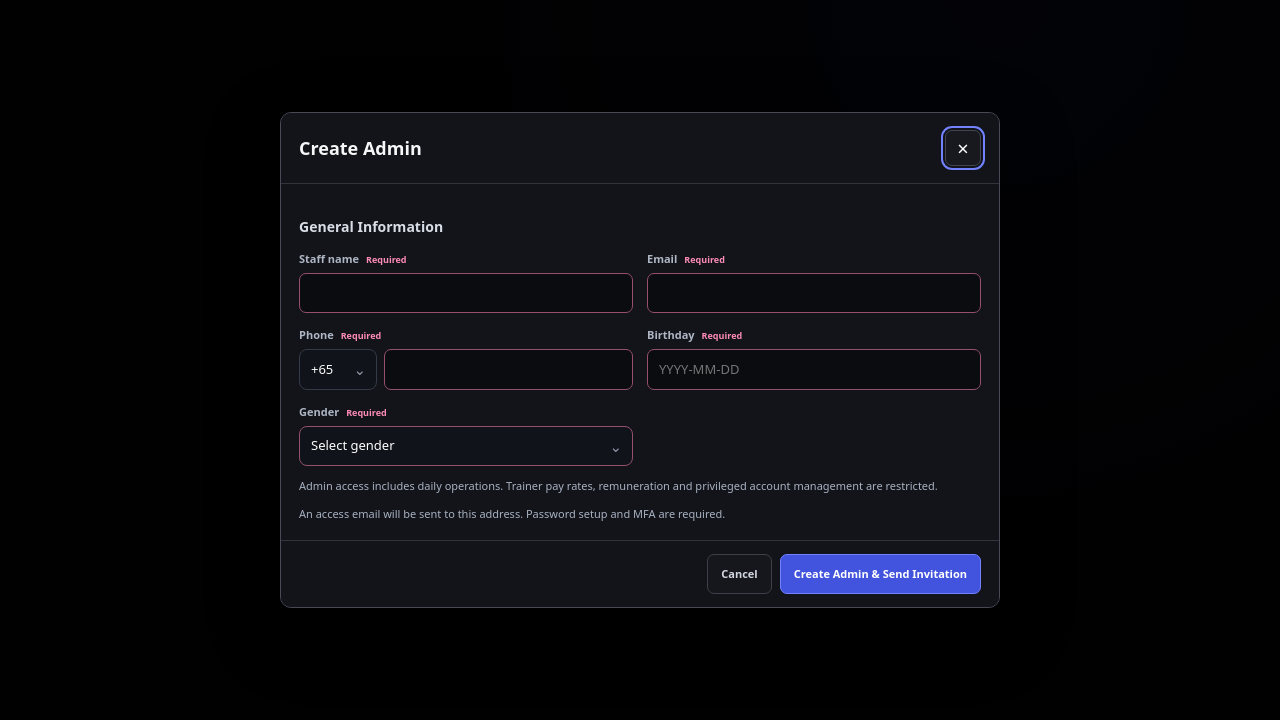
creates a valid request ID when HTTP preview has getRandomValues but no randomUUID
The width and height of the screenshot is (1280, 720).
Type "New Staff" into the field labelled "Staff name".
click(466, 293); type("New Staff")  # box [299, 273, 633, 314]
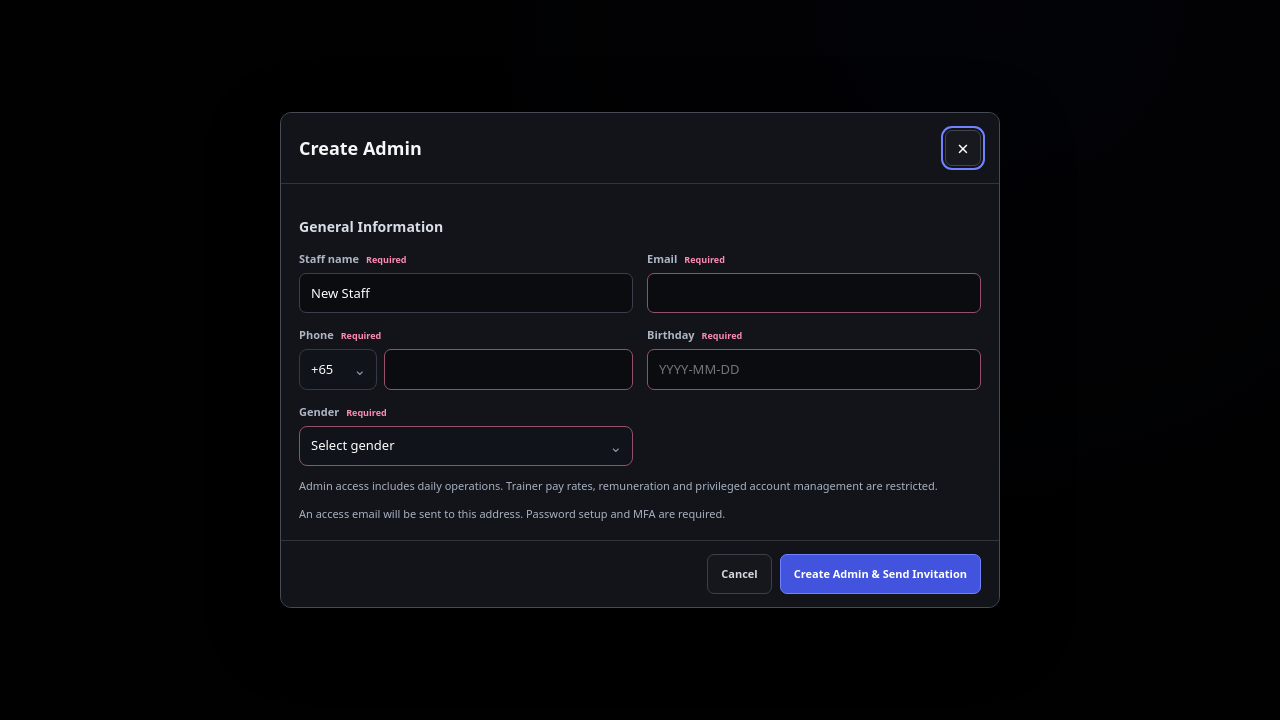
Type " STAFF@EXAMPLE.TEST " into the field named "Staff email".
click(814, 293); type(" STAFF@EXAMPLE.TEST ")  # box [647, 273, 981, 314]
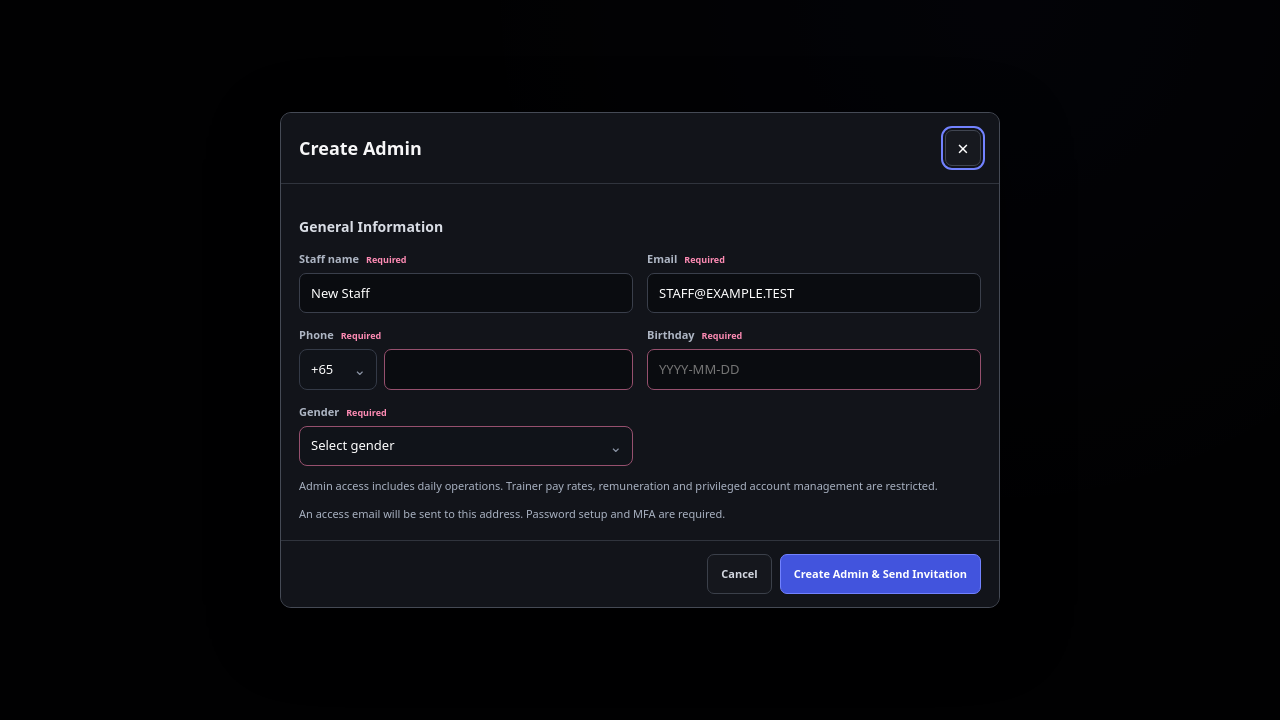
Type "91234567" into the field named "Staff phone number".
click(508, 370); type("91234567")  # box [384, 349, 633, 390]
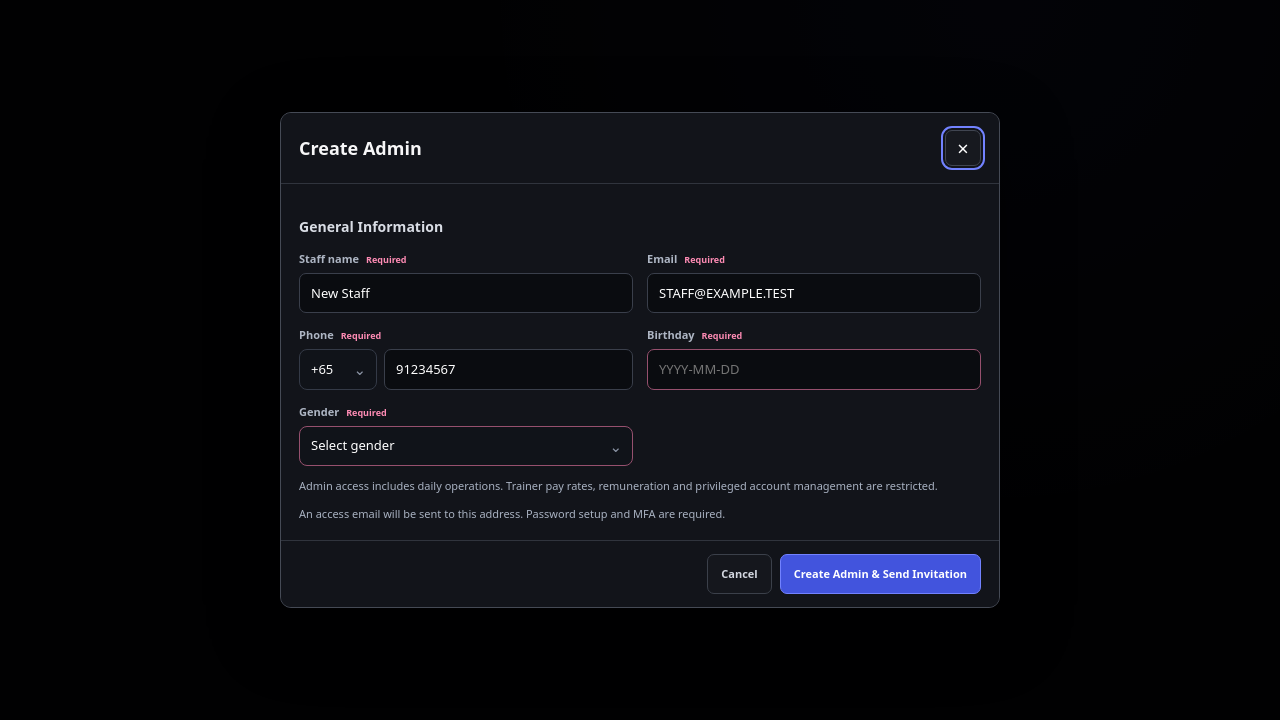
Type "1990-01-02" into the field named "Staff birthday".
click(814, 370); type("1990-01-02")  # box [647, 349, 981, 390]
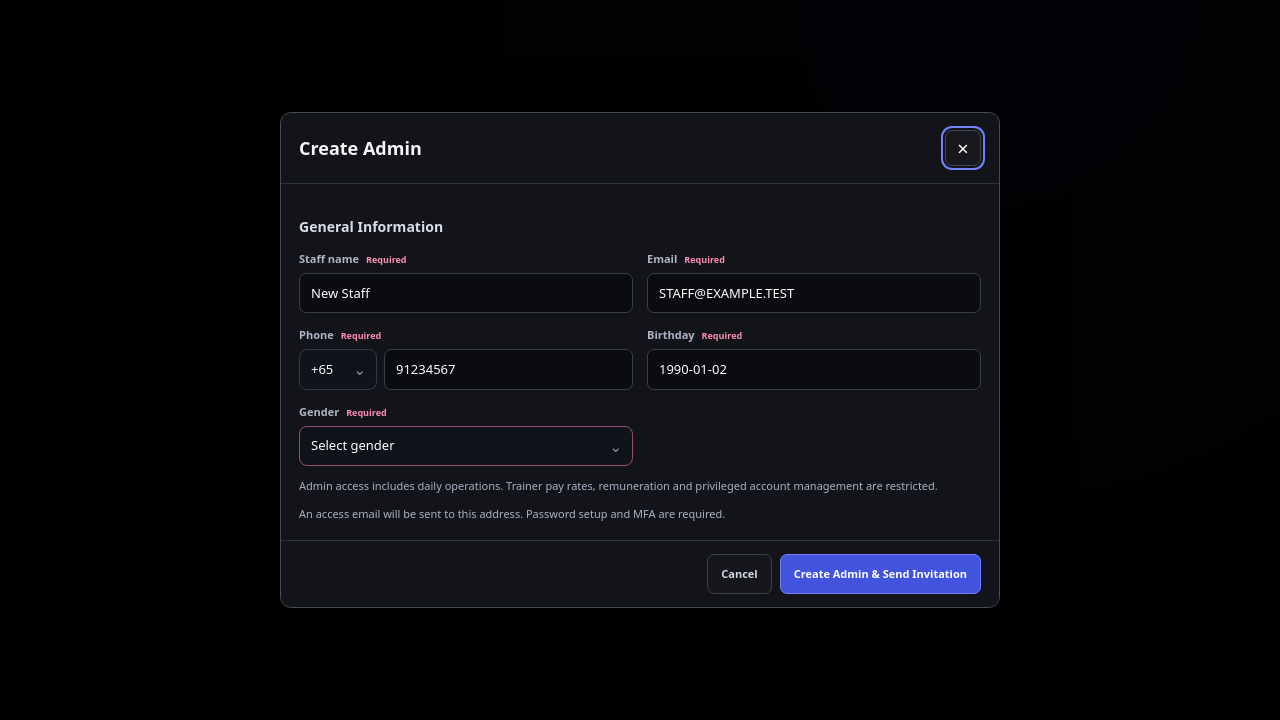
Select "Female" in the dropdown named "Staff gender" at coordinates (466, 446), box [299, 426, 633, 466]
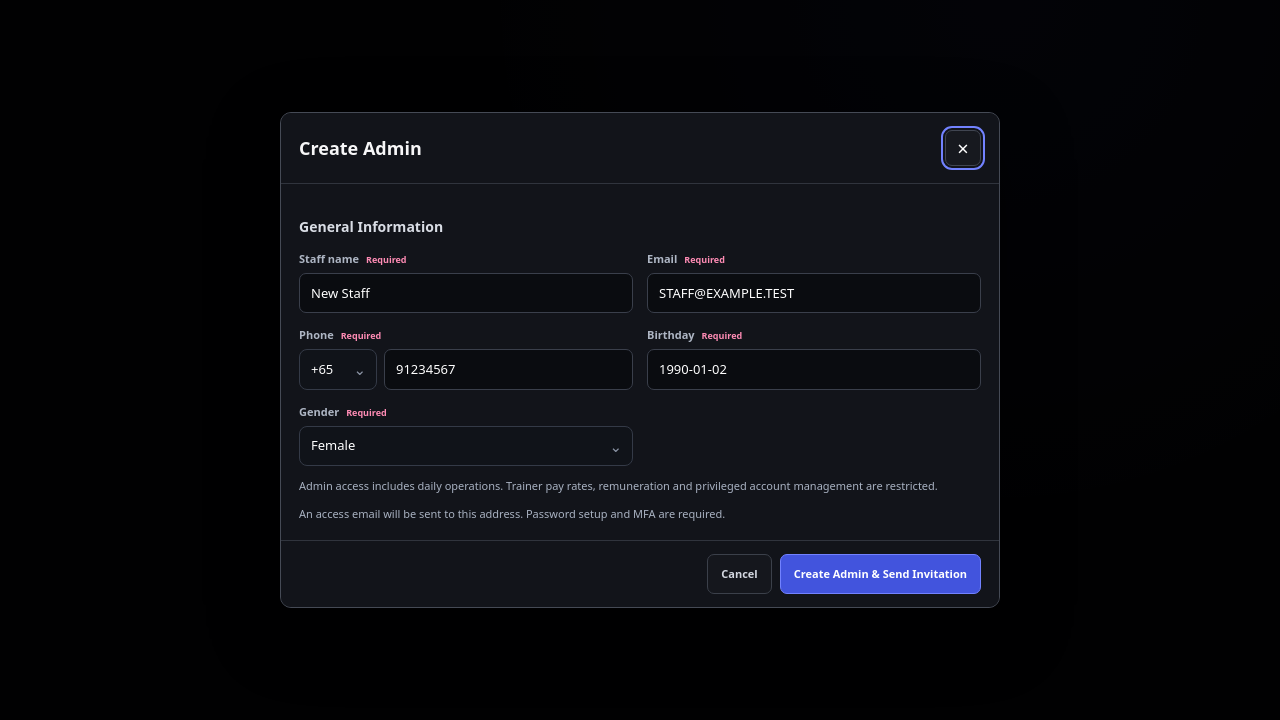
Click the button "Create Admin & Send Invitation".
click(880, 574)  # box [780, 554, 981, 594]
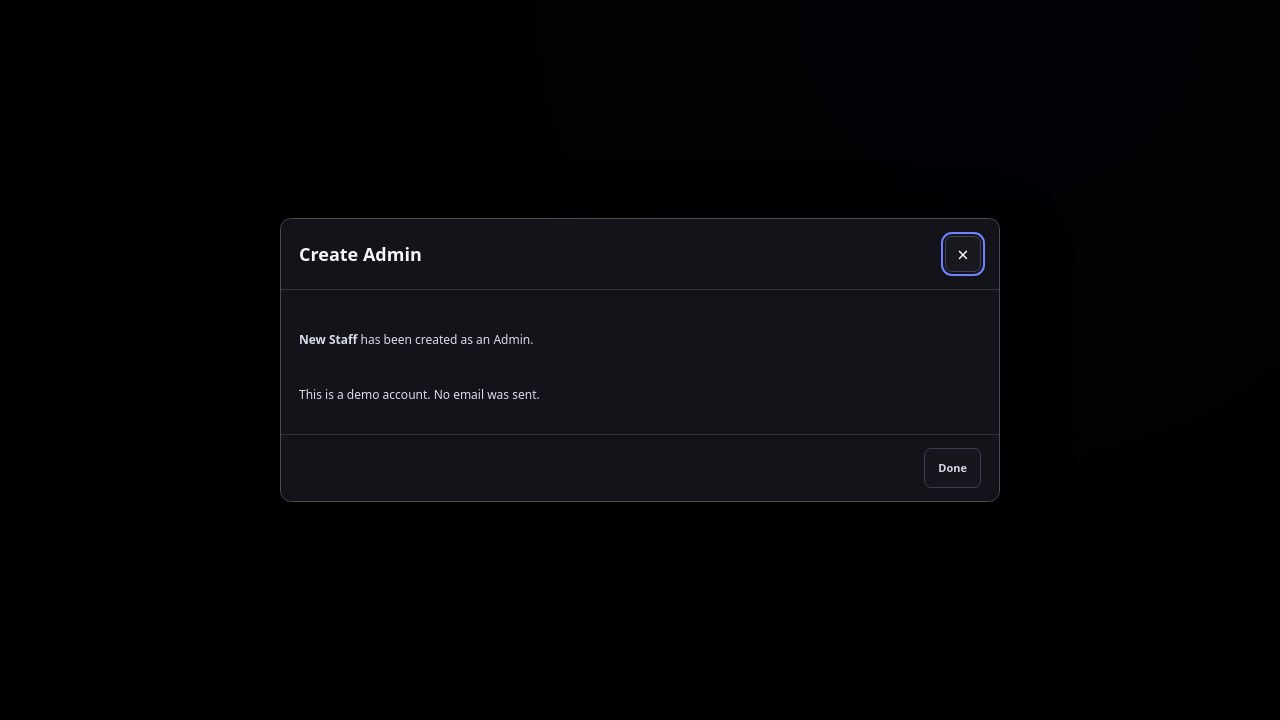
Result: the text "This is a demo account. No email was sent." is shown at [299, 386, 540, 403]
